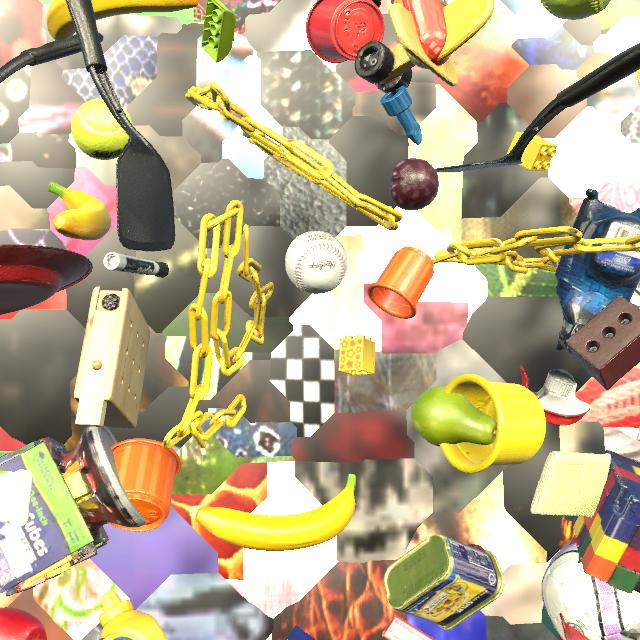ycb_003_cracker_box: (99, 638, 110, 640)
ycb_004_sugar_box: (637, 427, 640, 442)
ycb_006_mustard_bottle: (99, 590, 167, 640)
ycb_009_gelatin_box: (382, 614, 435, 640)
ycb_010_potted_meat_can: (384, 534, 505, 630)
ycb_011_banana: (195, 474, 356, 551), (46, 0, 199, 41), (48, 182, 112, 240)
ycb_013_apple: (0, 607, 47, 640)
ycb_016_pear: (411, 386, 497, 447)
ycb_018_plum: (390, 158, 439, 210)
